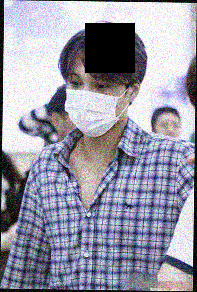with_mask: (66, 69, 132, 135)
